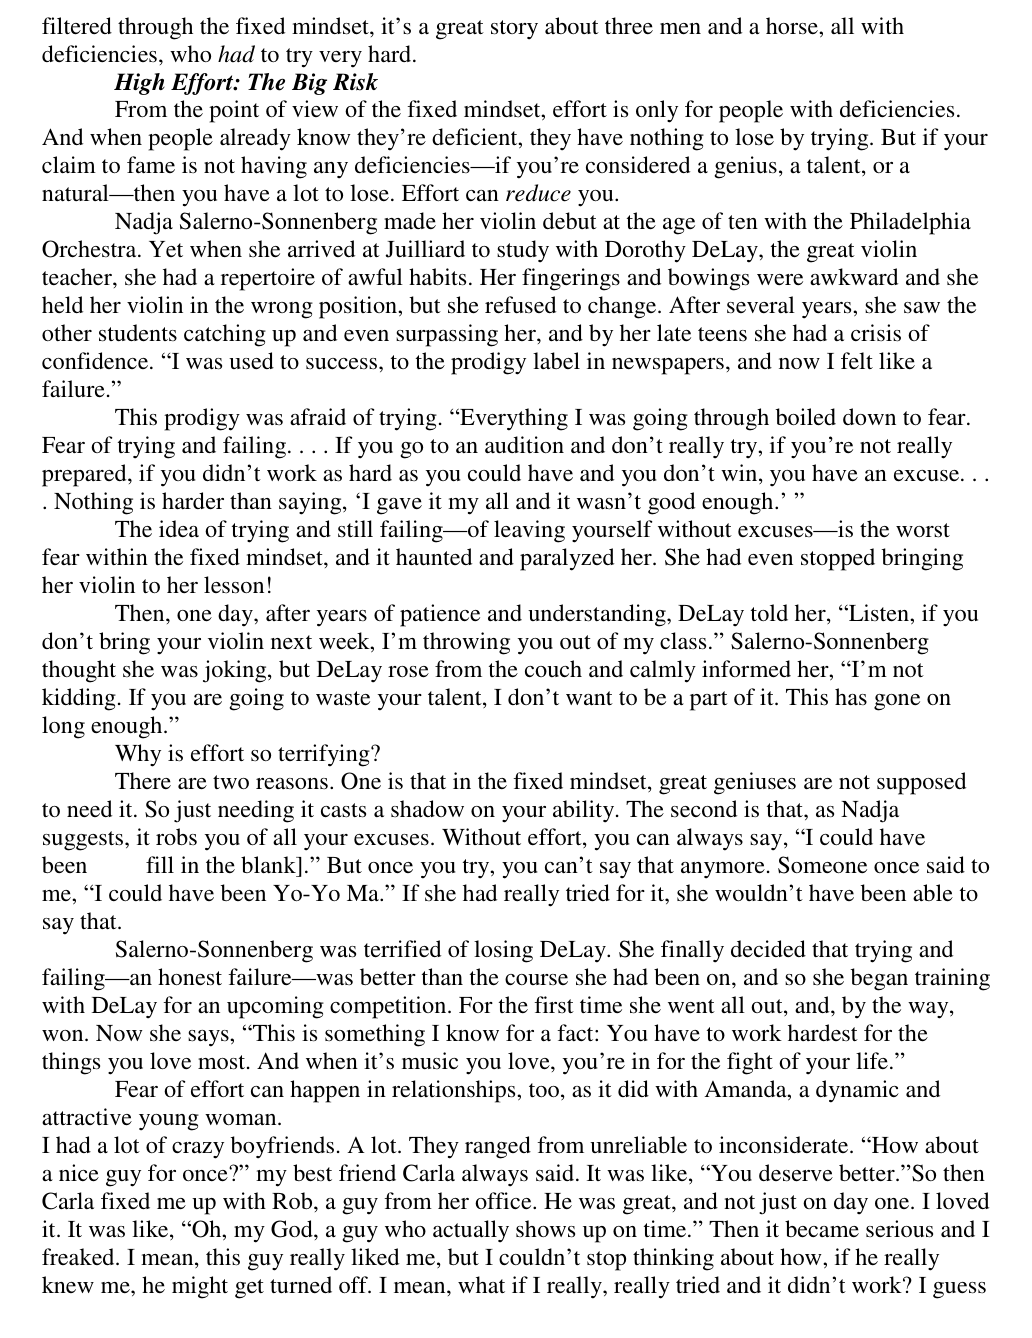latin: (30, 1075, 993, 1300), (38, 8, 990, 210), (26, 744, 995, 939), (33, 210, 986, 404), (33, 593, 988, 744), (35, 939, 1001, 1073), (36, 406, 997, 518), (30, 518, 969, 593)
